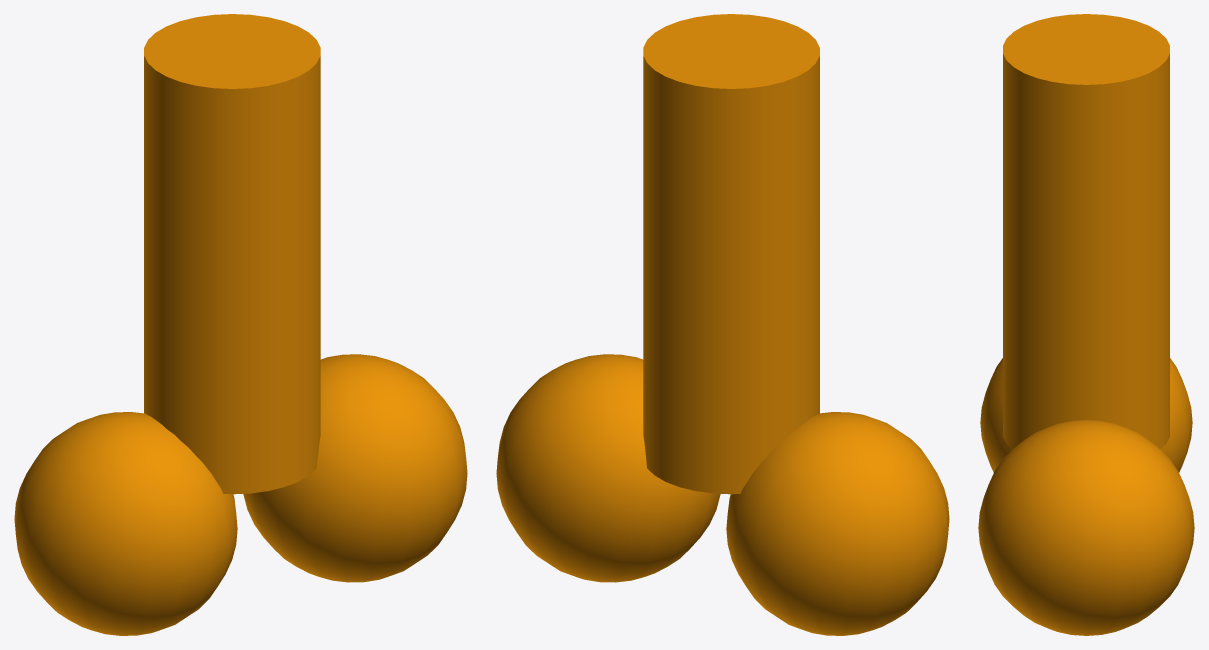
3 views of the same model, side by side, from view 1: azimuth 30°, elevation 25°; view 2: azimuth 150°, elevation 25°; view 3: azimuth 270°, elevation 25° (orthographic). The views are drawn at different scales.
Visible parts, largest first — view 1: pasted__pSphere1; view 2: pasted__pSphere1; view 3: pasted__pSphere1.
Boxes of the visible parts, left/top/right/bottom form: pasted__pSphere1: left=14, top=14, right=467, bottom=635; pasted__pSphere1: left=496, top=14, right=949, bottom=635; pasted__pSphere1: left=978, top=14, right=1194, bottom=635.
Bounding box in the file's own units: 1.79 × 2.22 × 0.8364.
